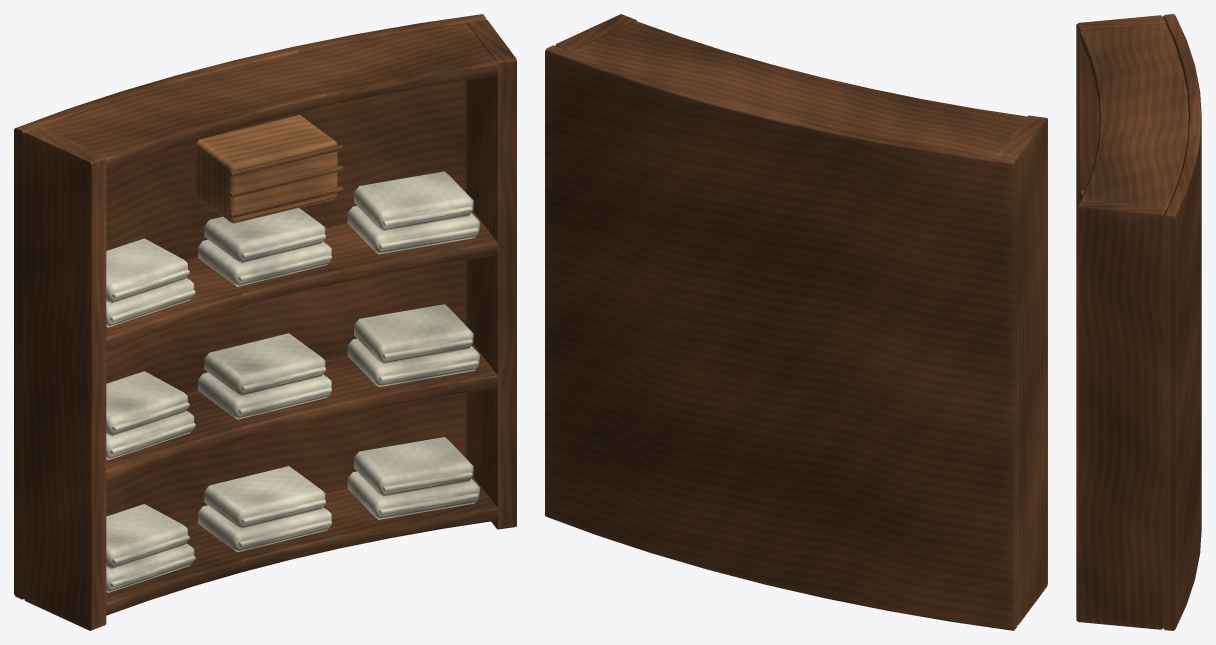
The model's file is Furn_TowelShelf_Arc.fbx.
3 renders of one model, left to right at view 1: azimuth 30°, elevation 25°; view 2: azimuth 150°, elevation 25°; view 3: azimuth 270°, elevation 25°, orthographic. The views are drawn at different scales.
Visible parts, largest first — view 1: Furn_TowelShelf_Arc; view 2: Furn_TowelShelf_Arc; view 3: Furn_TowelShelf_Arc.
Part boxes in pixels (x1,y1,x2,y2): Furn_TowelShelf_Arc: (14, 14, 516, 630); Furn_TowelShelf_Arc: (545, 14, 1047, 630); Furn_TowelShelf_Arc: (1076, 14, 1201, 630).
Size of the model in its own units: 1.88 by 1.8 by 0.4936.
Materials: 3 (3 with a texture image).
